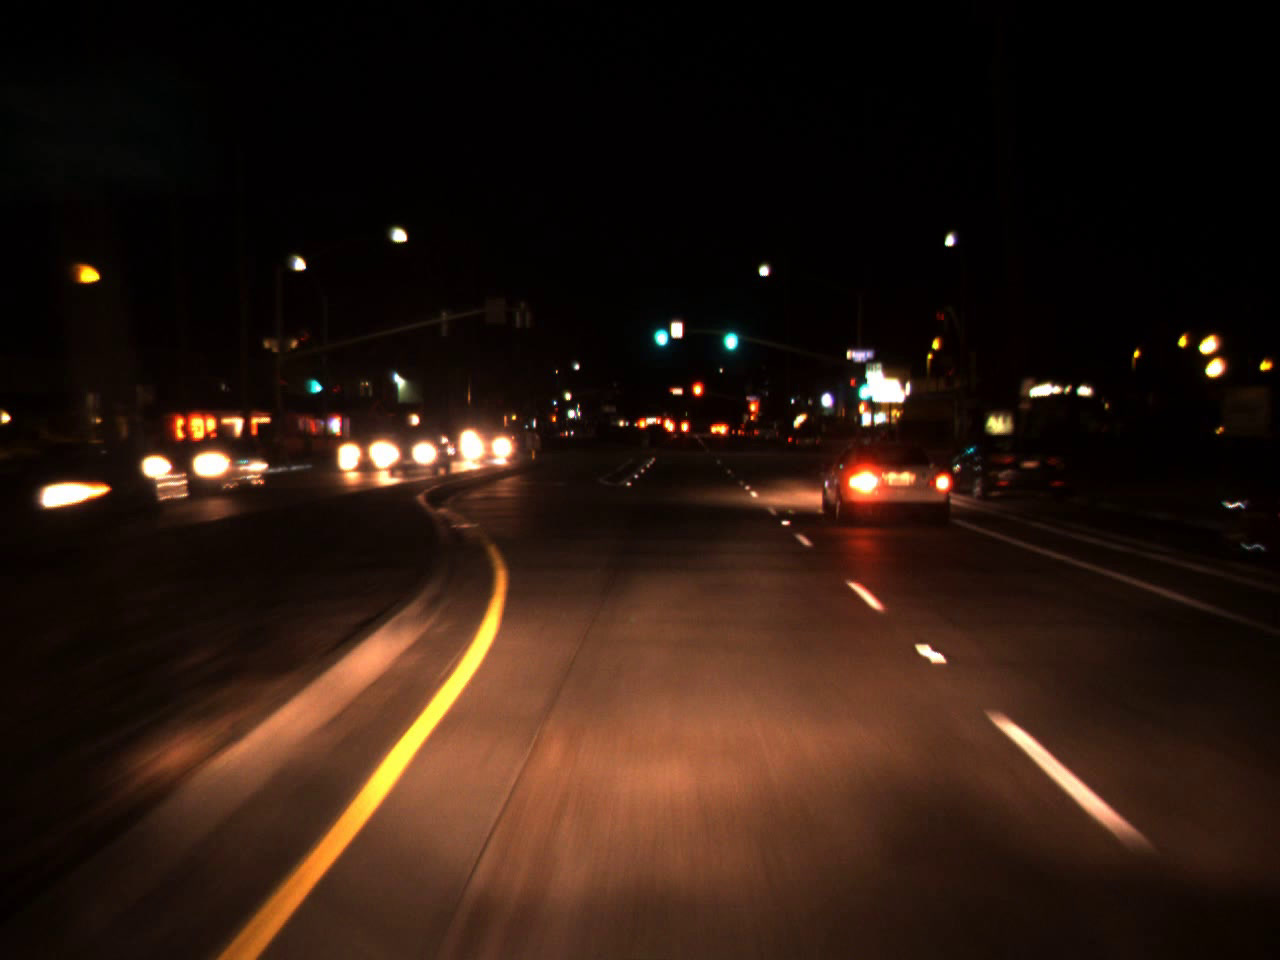go: (717, 311, 740, 356), (650, 307, 669, 352), (854, 368, 873, 404), (308, 364, 322, 397)
stop: (690, 378, 705, 415), (749, 399, 759, 426)
